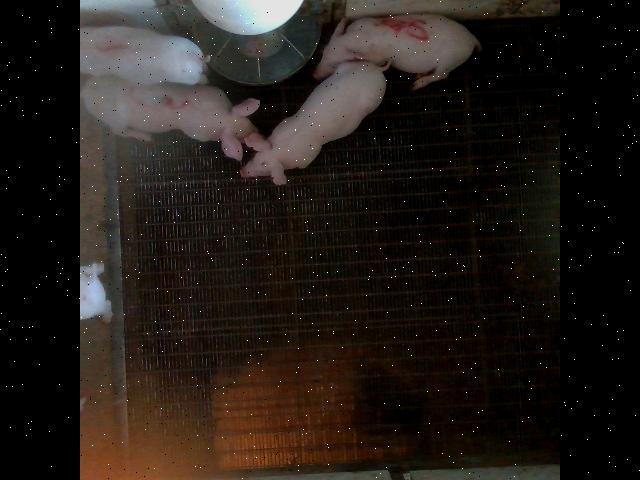pig-1: (81, 25, 210, 84)
pig-3: (82, 75, 261, 158)
pig-5: (314, 14, 480, 89)
